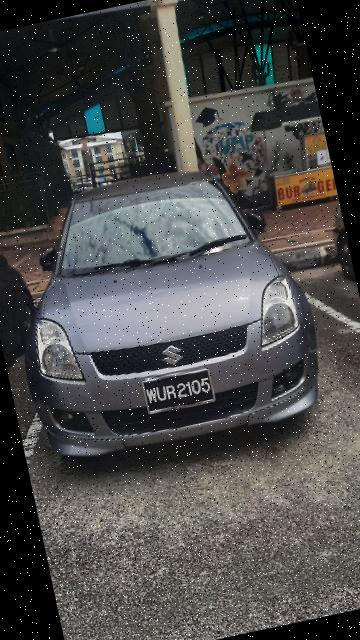License_Plate: (142, 367, 220, 419)
car: (1, 145, 333, 479)
